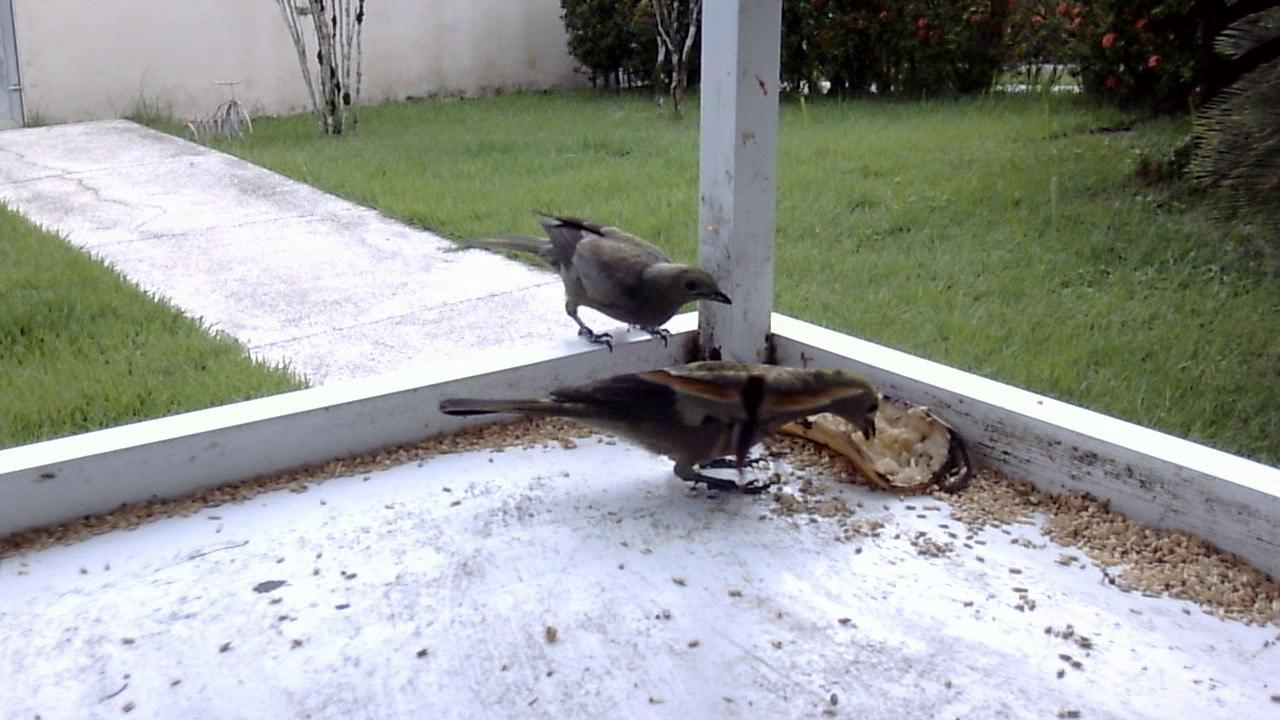sanhaco_do_coqueiro: (435, 352, 881, 508), (433, 206, 731, 362)
